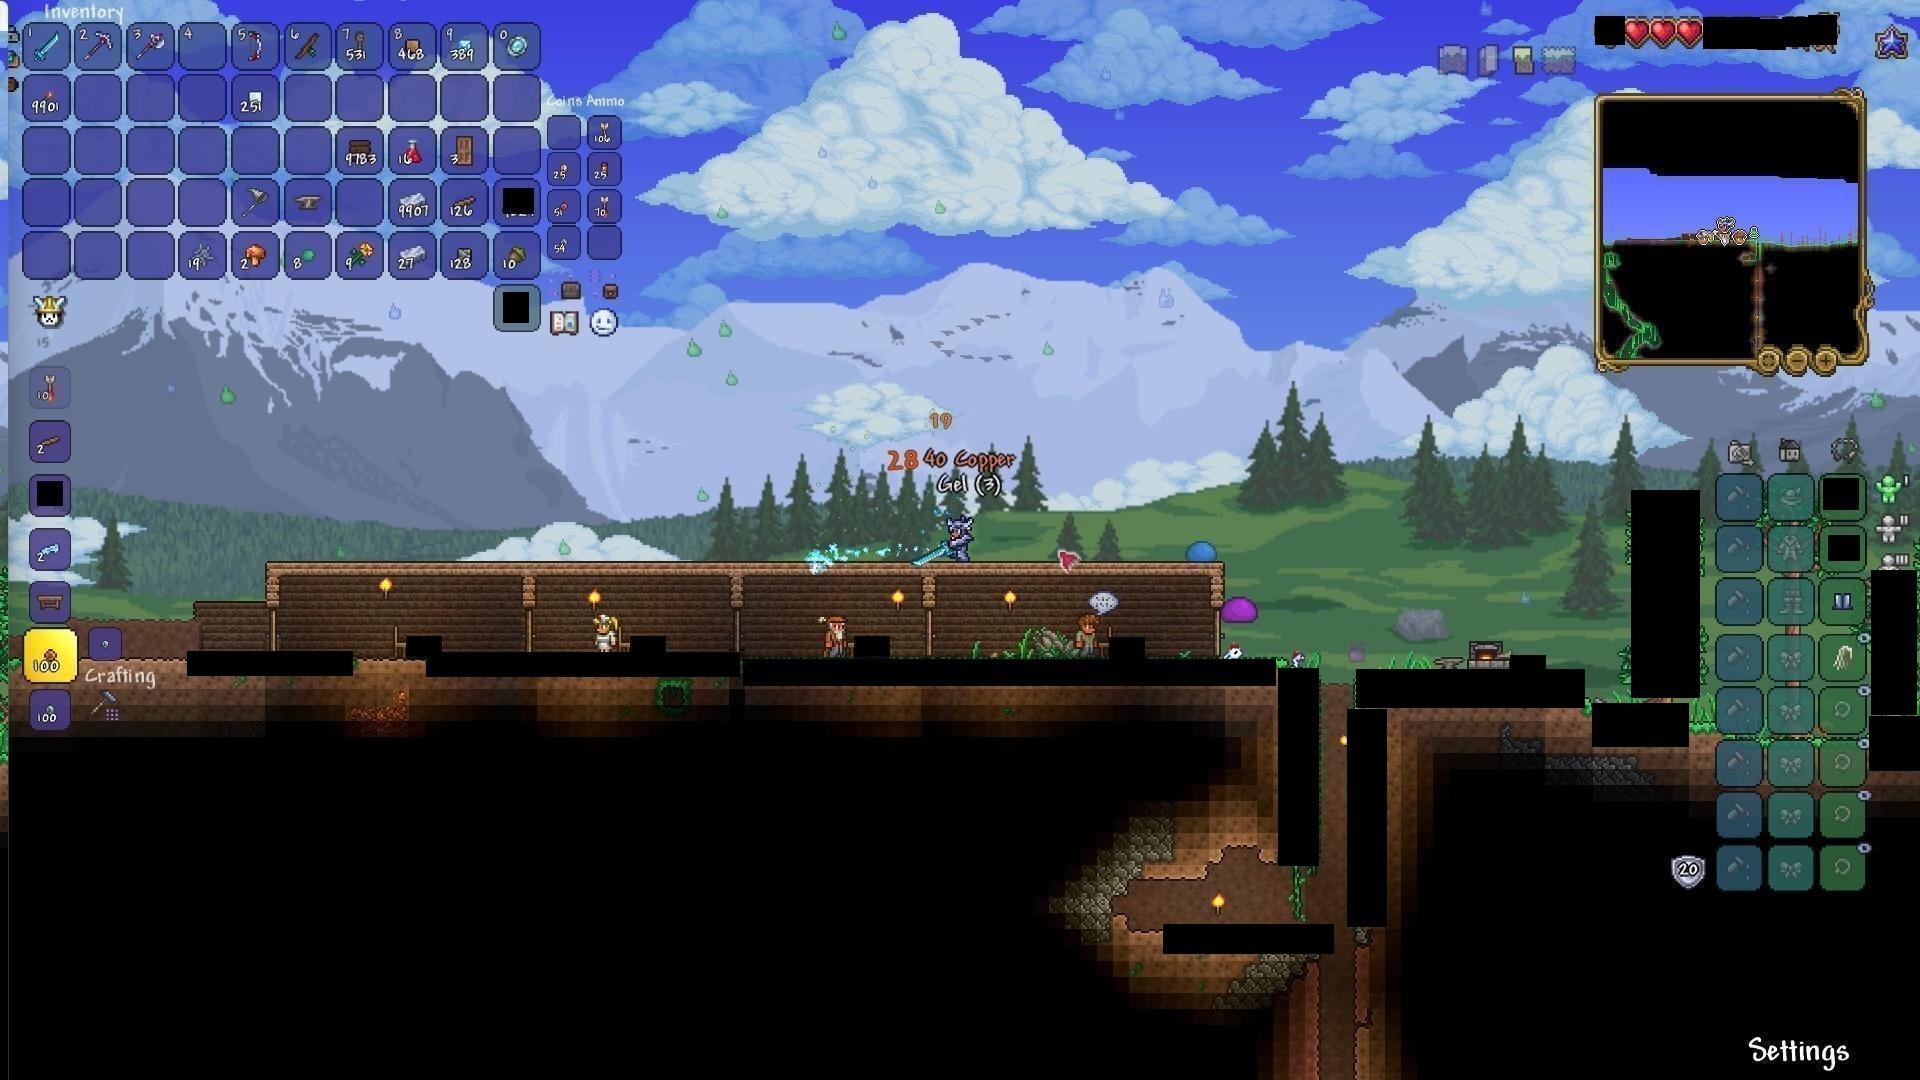heart: (1648, 17, 1676, 47), (1675, 18, 1702, 47), (1625, 17, 1651, 46)
legs: (1832, 587, 1857, 617)
slime: (1218, 593, 1265, 630), (1182, 534, 1221, 564)
workbench: (33, 589, 69, 617)
